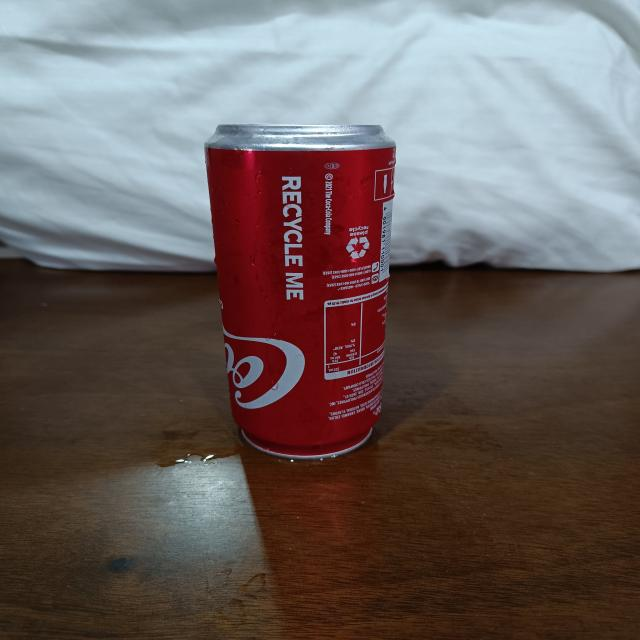coke: (203, 120, 391, 458)
